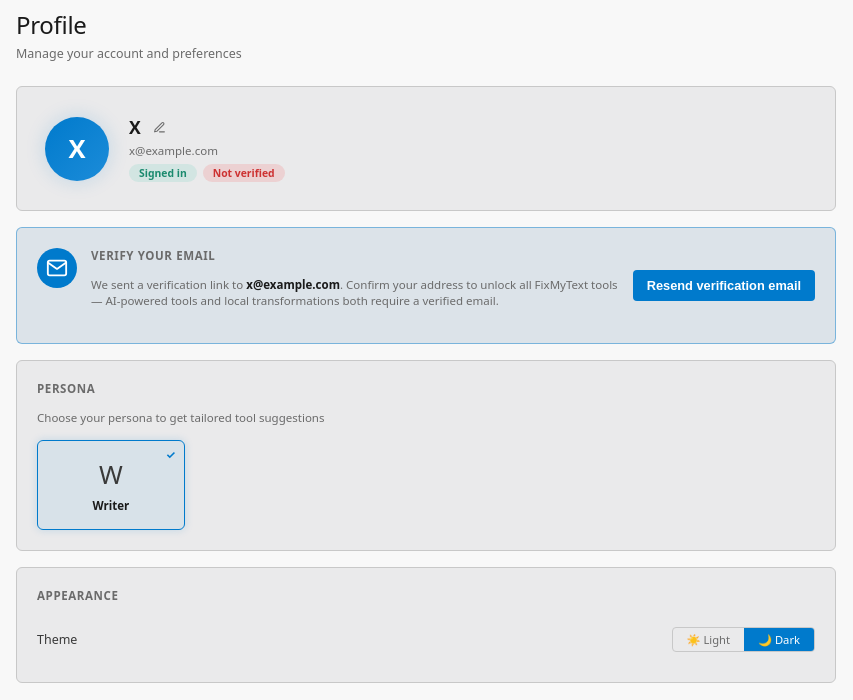
Test case: ProfileSection — email verification › resend button sends the request and goes into cooldown on success
Click the button "Resend verification email": coordinates (724, 286) [633, 270, 815, 301]
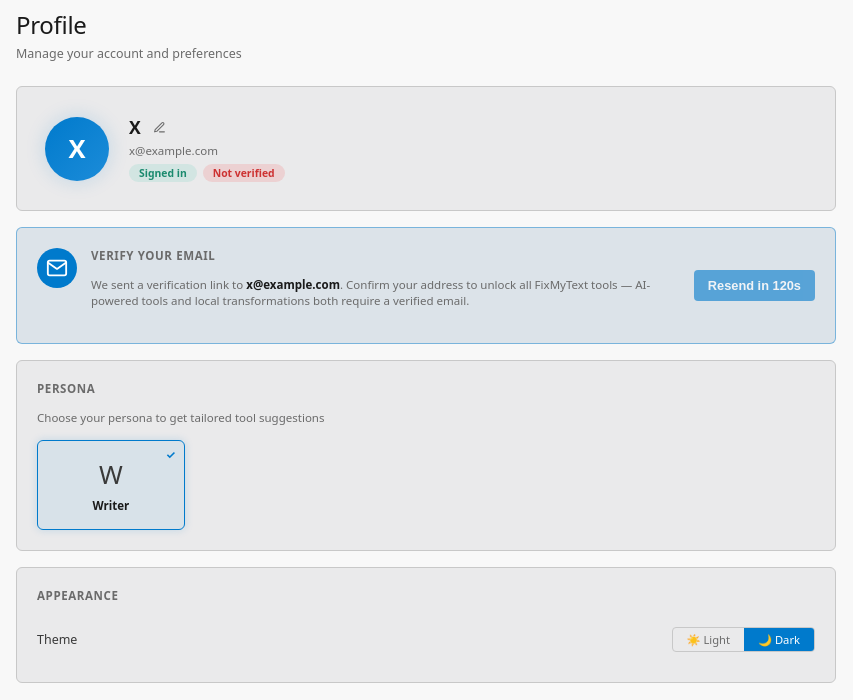
Result: the button "Resend in 120s" is disabled at [694, 270, 815, 301]
